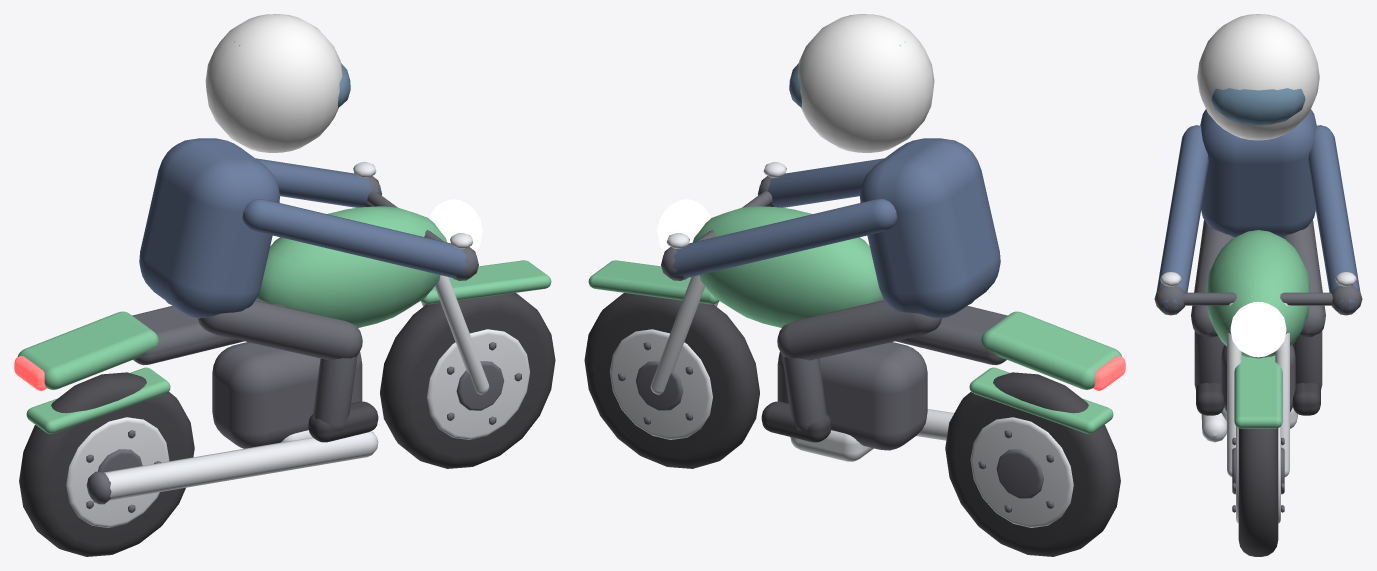
Rendered from vehicle_bike.glb.
3 renders of one model, left to right at view 1: azimuth 30°, elevation 25°; view 2: azimuth 150°, elevation 25°; view 3: azimuth 270°, elevation 25°, orthographic. The views are drawn at different scales.
Parts seen in each view (by area): view 1: vehicle_bike; view 2: vehicle_bike; view 3: vehicle_bike.
Boxes of the visible parts, <box> form: vehicle_bike: <box>14,14,555,556</box>; vehicle_bike: <box>584,14,1125,556</box>; vehicle_bike: <box>1154,14,1362,556</box>.
Size of the model in its own units: 2.52 by 2.24 by 0.95.
